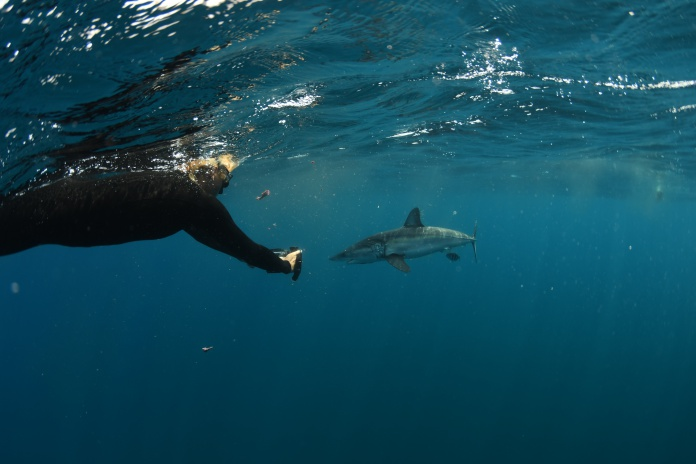Mako: (322, 203, 491, 278)
